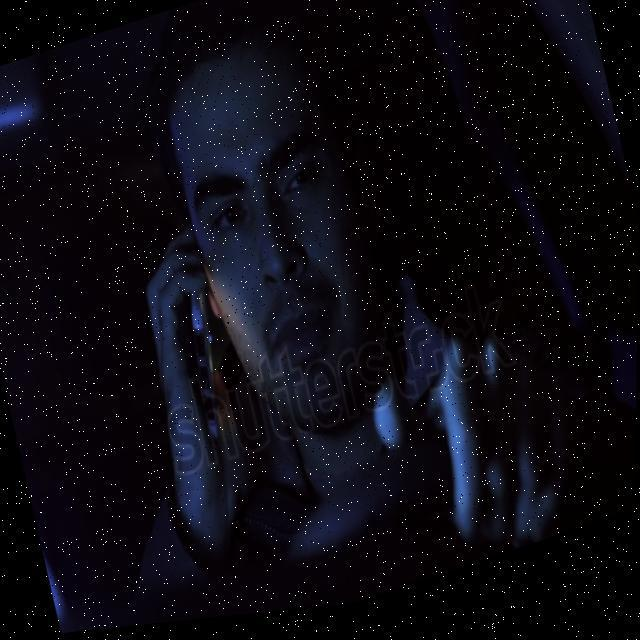PhoneCall: (162, 237, 254, 451)
